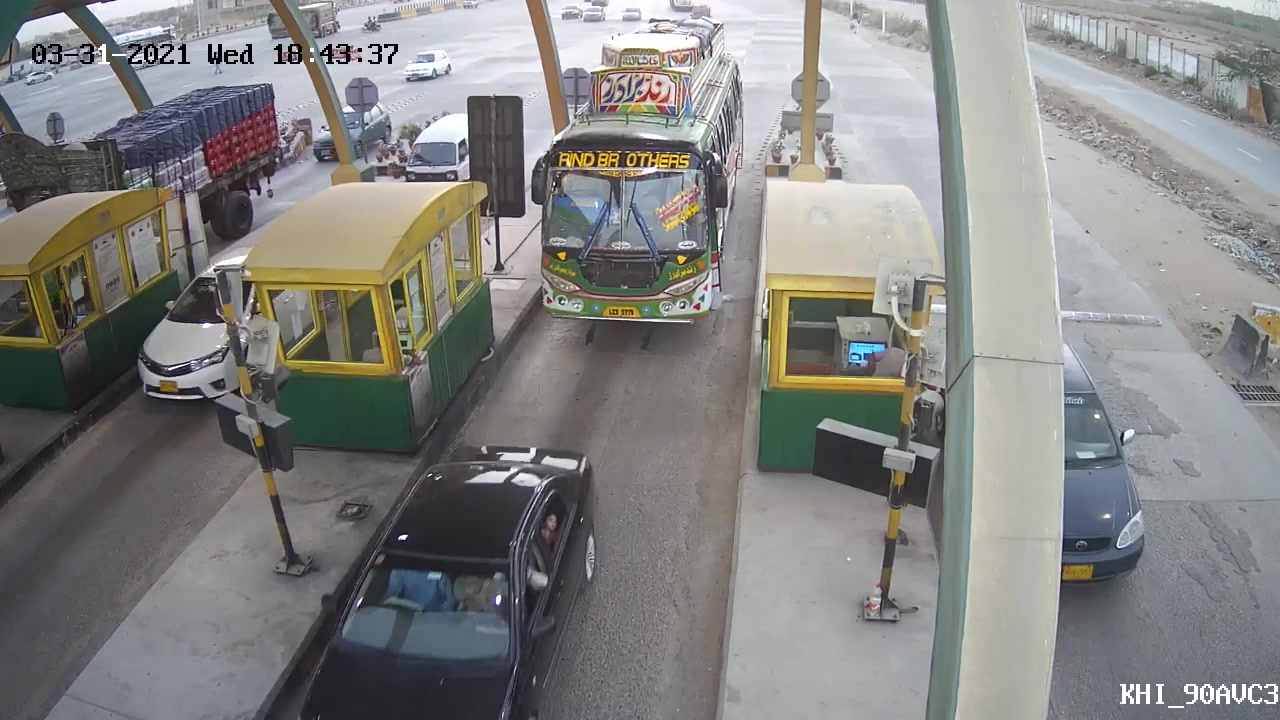F4: (527, 12, 754, 342)
